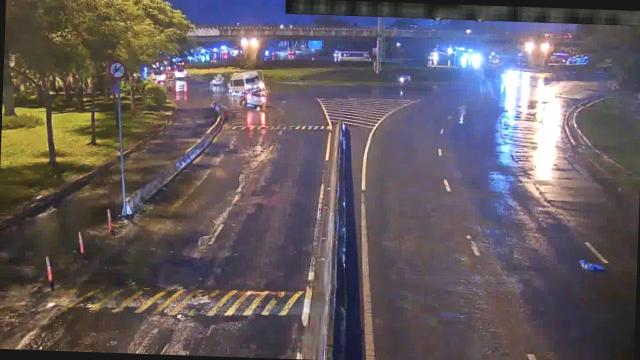Bus: (230, 71, 266, 96)
Car: (238, 86, 268, 109)
